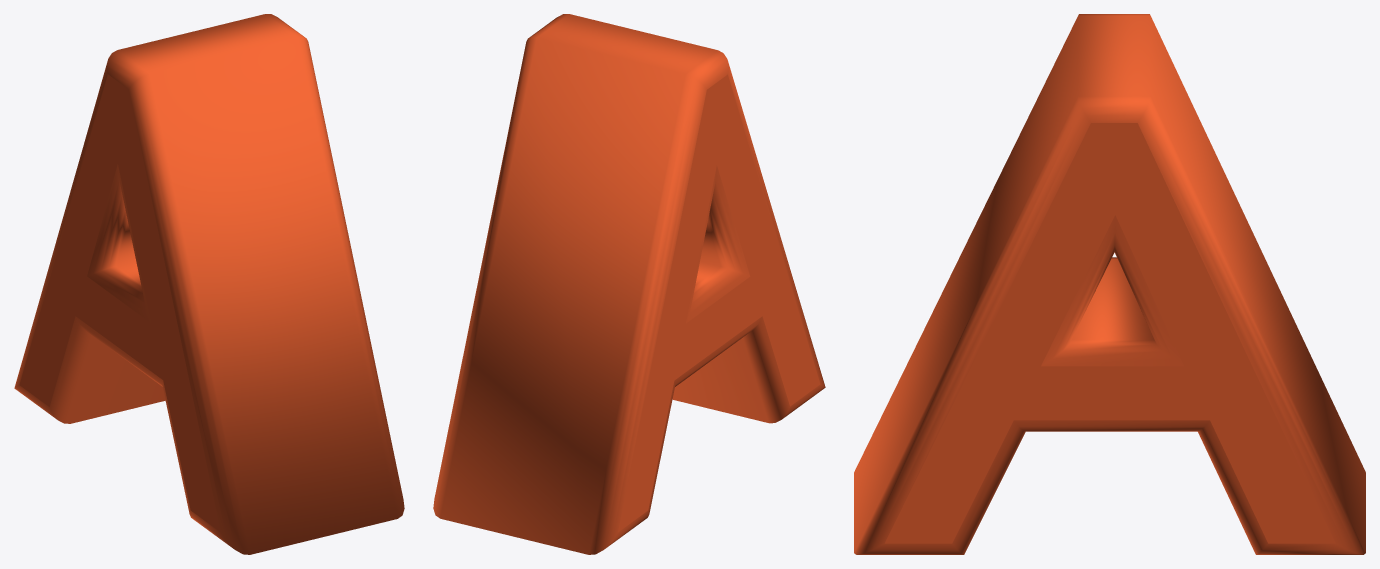
Rendered from letterA.glb.
3 renders of one model, left to right at view 1: azimuth 30°, elevation 25°; view 2: azimuth 150°, elevation 25°; view 3: azimuth 270°, elevation 25°, orthographic. The views are drawn at different scales.
Parts seen in each view (by area): view 1: LetterA; view 2: LetterA; view 3: LetterA.
Part boxes in pixels (bbox=[...]): LetterA: bbox=[14, 14, 404, 554]; LetterA: bbox=[433, 14, 825, 554]; LetterA: bbox=[854, 14, 1365, 554].
Size of the model in its own units: 0.58 by 1.27 by 1.29.
